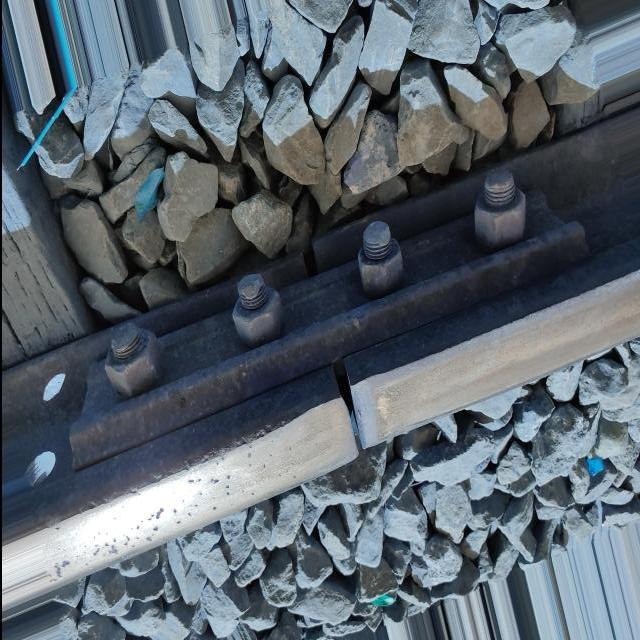squats_high: (52, 504, 164, 579), (171, 447, 253, 526)
